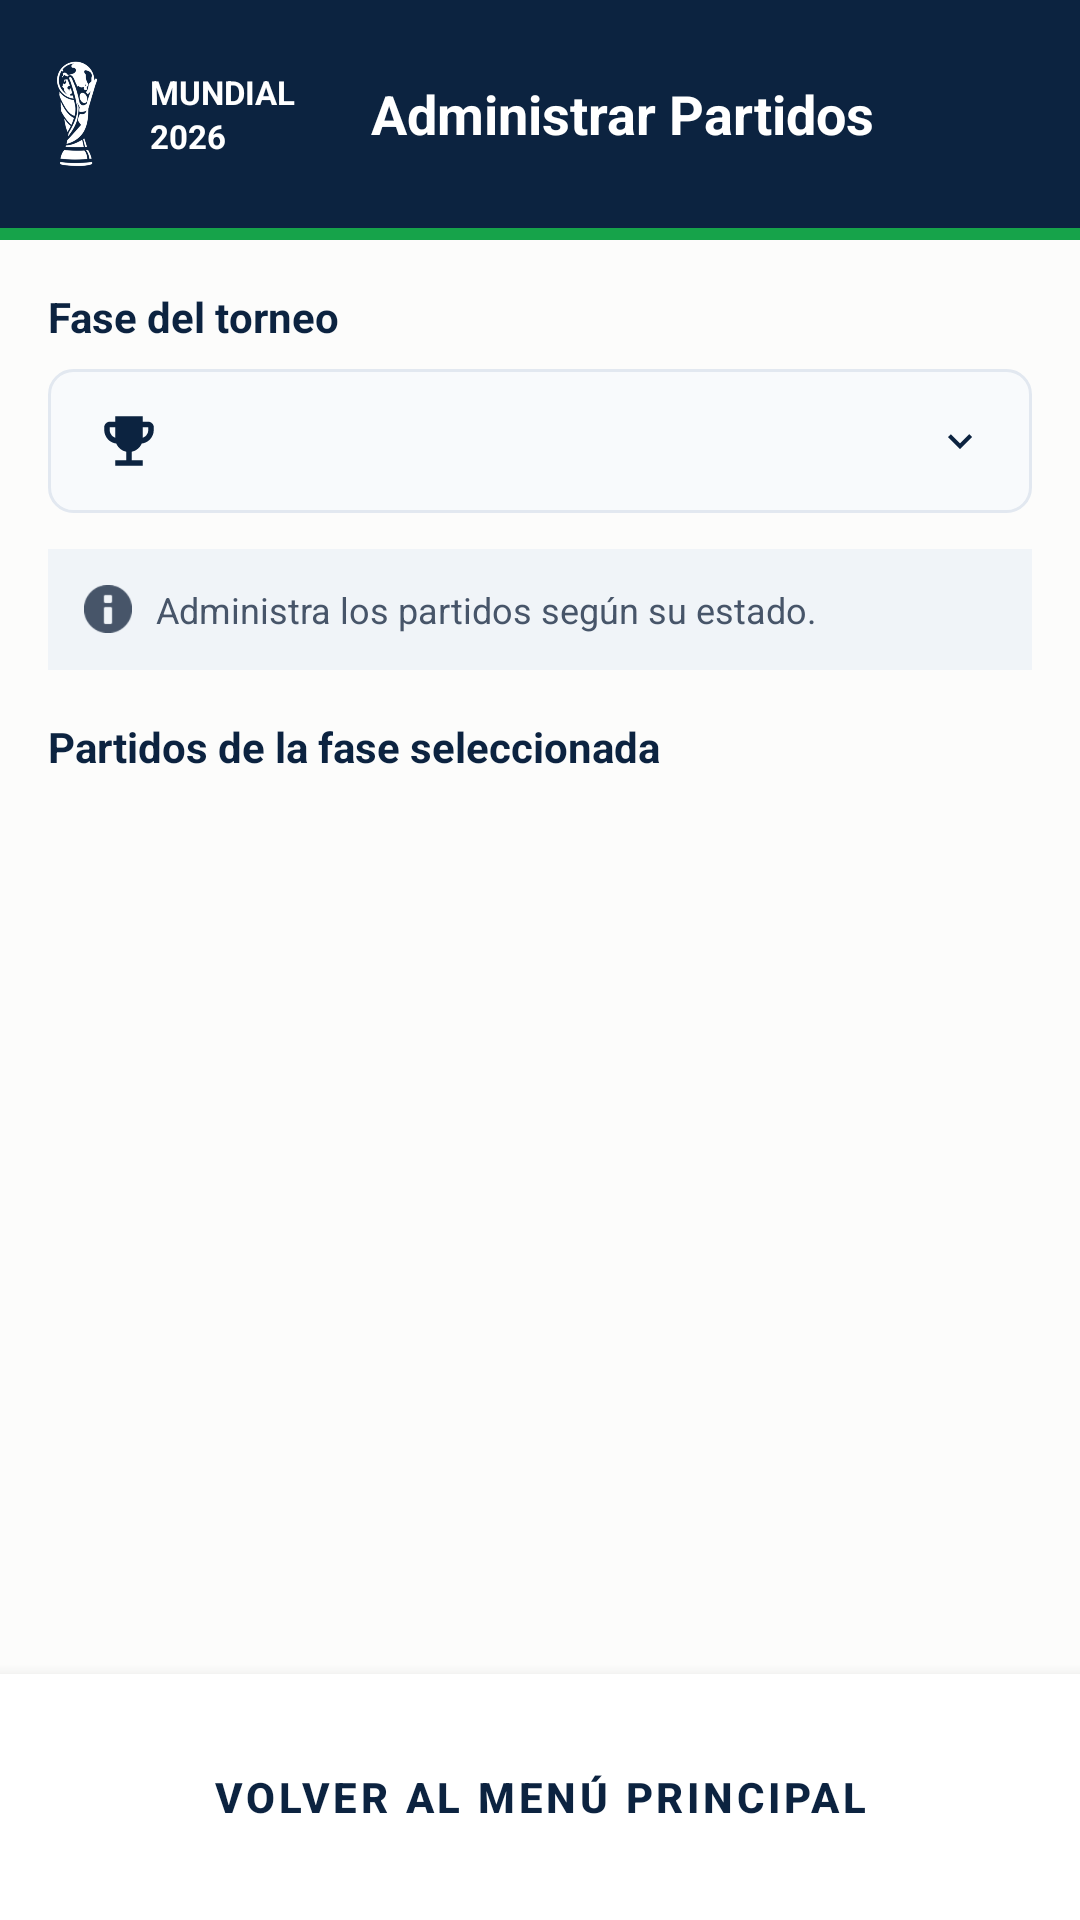

Screen size 1080 x 1920. Icon name, then its center in pixels as (x,y):
copa: (129,441)
info: (108,609)
